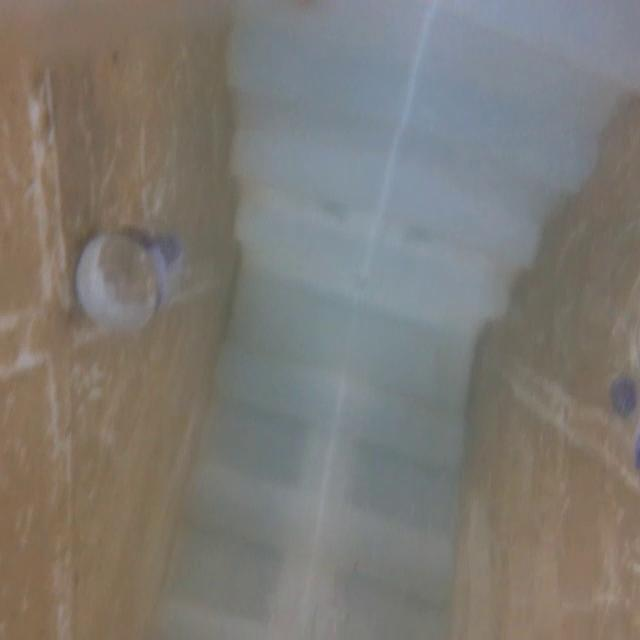plastic bags: (51, 211, 199, 360)
